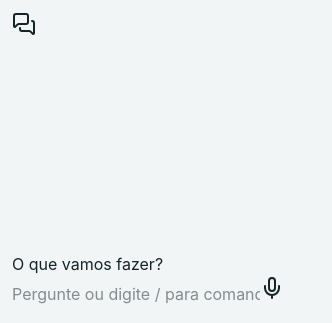
Test case: shows the reply as text with its records and refreshes the agenda
The width and height of the screenshot is (332, 323).
In the field named "Mensagem para a IA": (136, 294) [12, 282, 260, 306], type "crie a tarefa"
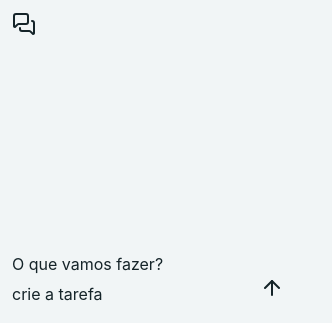
Submit the form named "Mensagem para a IA", box [12, 276, 284, 306]
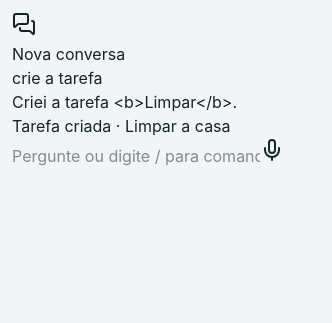
Now the text "Criei a tarefa <b>Limpar</b>." is shown, box [12, 92, 237, 112]
Now the list named "Registros desta resposta" reads "Tarefa criada · Limpar a casa", box [12, 116, 230, 136]
